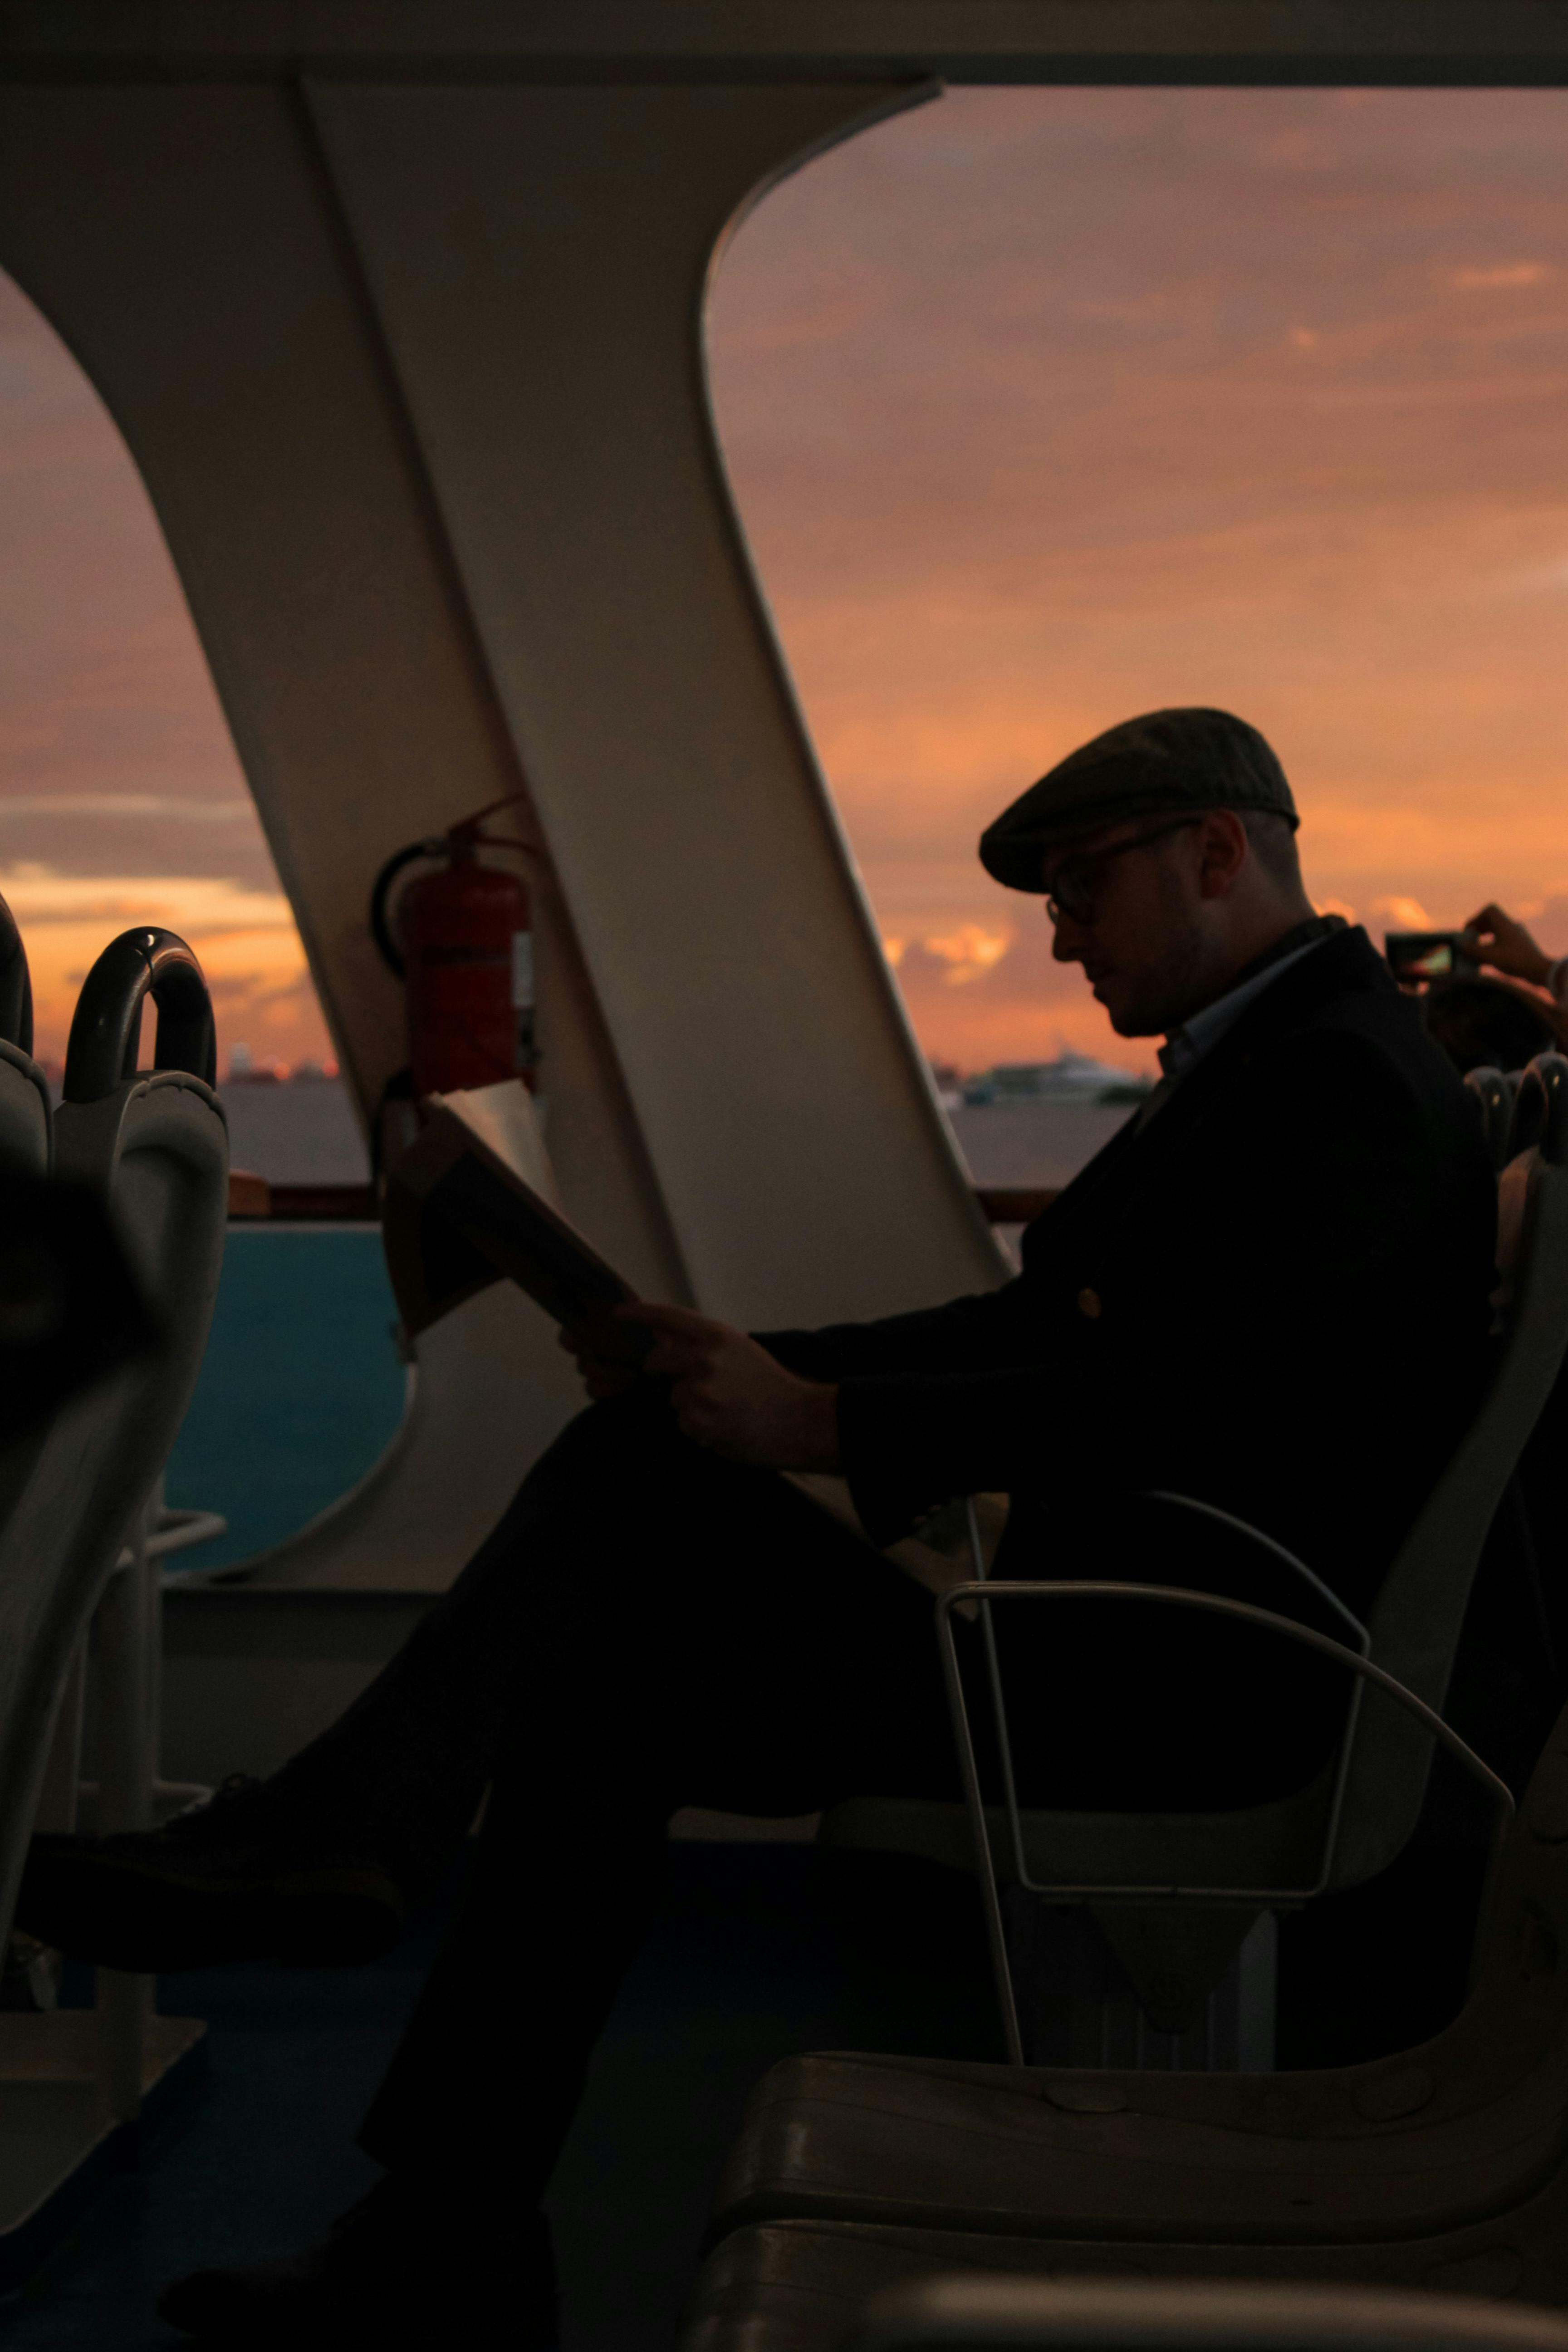extintor: (350, 777, 565, 1115)
